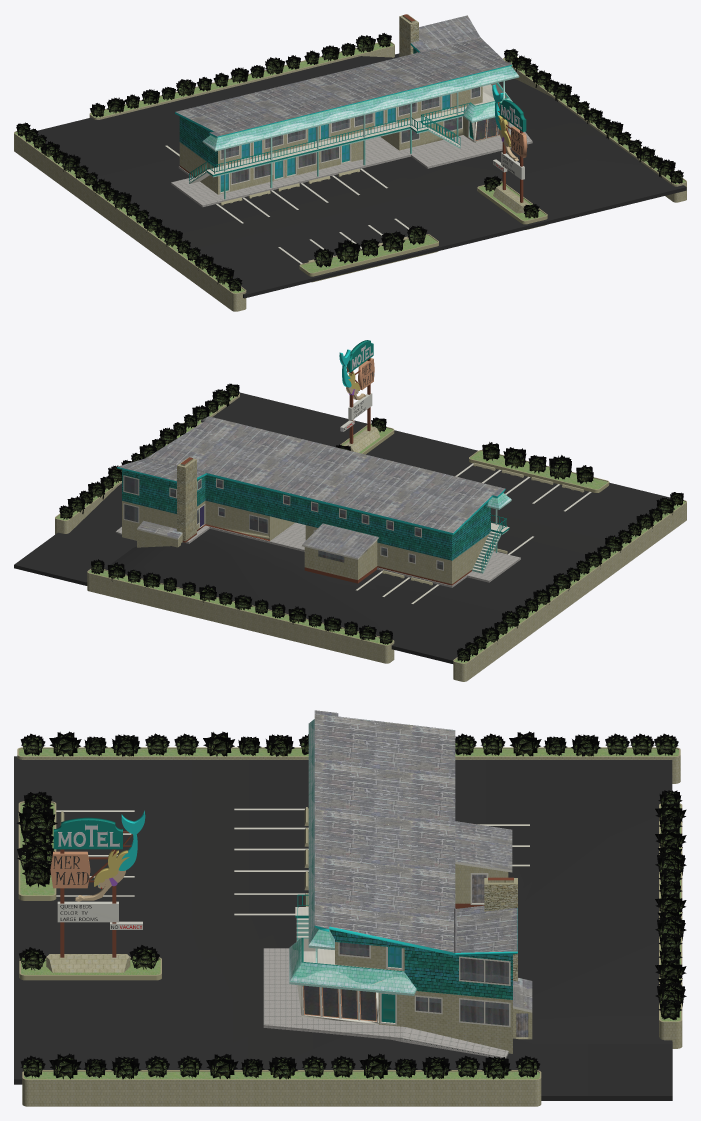
3 renders of one model, top to bottom at view 1: azimuth 30°, elevation 25°; view 2: azimuth 150°, elevation 25°; view 3: azimuth 270°, elevation 25°, orthographic. The views are drawn at different scales.
Visible parts, largest first — view 1: Store_3, Motel_0, Bushes_4, MERMAID_1, Motel.001_2; view 2: Store_3, Motel_0, Bushes_4, MERMAID_1; view 3: Store_3, Motel_0, Bushes_4, MERMAID_1.
Part boxes in pixels (x1,y1,x2,y2): Store_3: (14, 41, 686, 311); Motel_0: (171, 14, 532, 207); Bushes_4: (16, 33, 683, 291); MERMAID_1: (492, 84, 529, 213); Motel.001_2: (189, 103, 469, 181); Store_3: (14, 392, 686, 681); Motel_0: (115, 416, 520, 587); Bushes_4: (59, 383, 683, 661); MERMAID_1: (339, 340, 380, 452); Store_3: (14, 747, 682, 1106); Motel_0: (263, 710, 532, 1058); Bushes_4: (16, 731, 686, 1079); MERMAID_1: (46, 810, 145, 972).
Bounding box in the file's own units: 50.33 × 12.83 × 42.64.
Materials: 13 (13 with a texture image).
